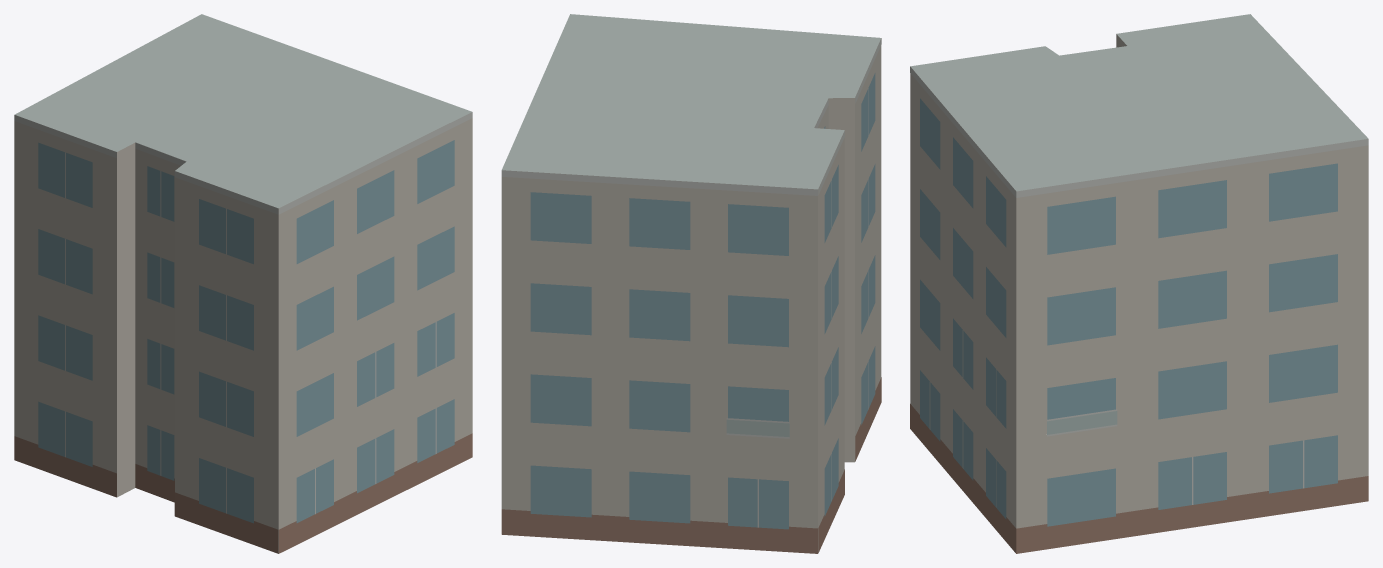
The model's file is survey-upis-32855401.glb.
3 renders of one model, left to right at view 1: azimuth 30°, elevation 25°; view 2: azimuth 150°, elevation 25°; view 3: azimuth 270°, elevation 25°, orthographic. The views are drawn at different scales.
Visible parts, largest first — view 1: survey-upis-32855401.tmp; view 2: survey-upis-32855401.tmp; view 3: survey-upis-32855401.tmp.
Boxes of the visible parts, x1=… form: survey-upis-32855401.tmp: x1=14, y1=14, x2=472, y2=553; survey-upis-32855401.tmp: x1=501, y1=14, x2=881, y2=553; survey-upis-32855401.tmp: x1=910, y1=14, x2=1368, y2=553.
Bounding box in the file's own units: 14.13 × 13.45 × 15.43.
